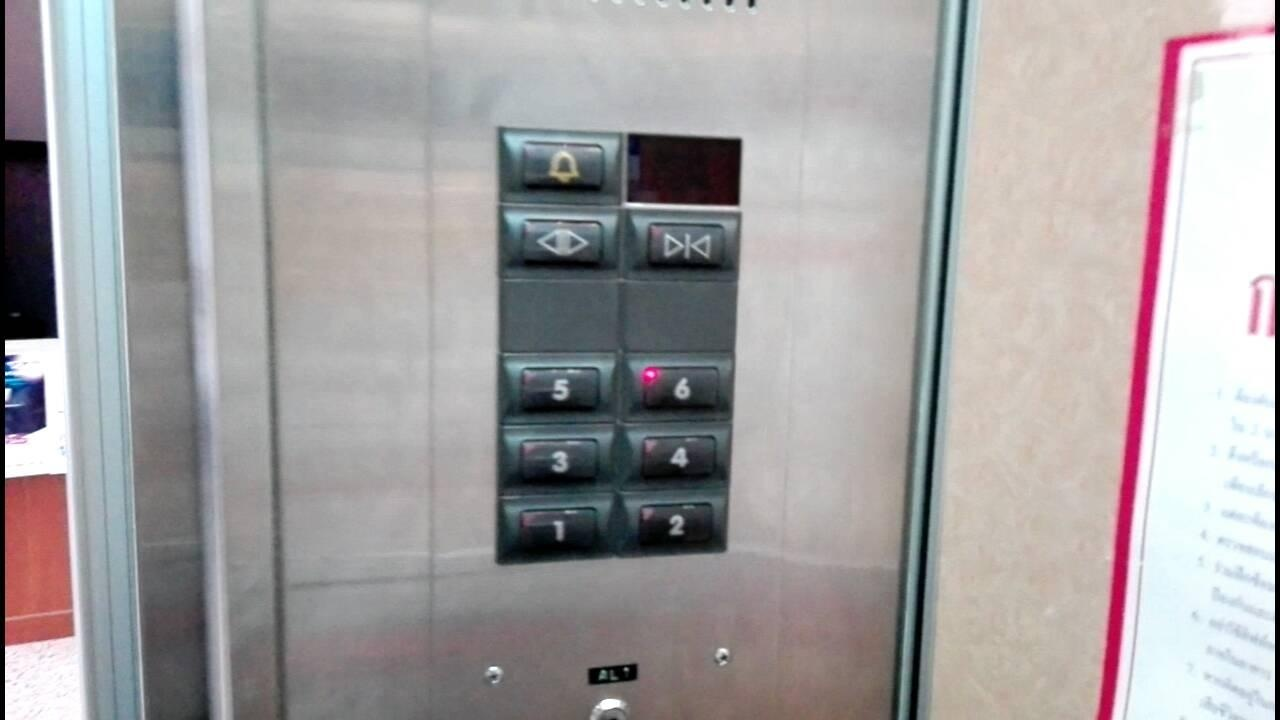1: (517, 504, 601, 555)
2: (633, 501, 717, 552)
3: (518, 436, 602, 487)
4: (635, 432, 719, 483)
5: (517, 365, 601, 416)
6: (638, 363, 722, 414)
alarm: (519, 139, 607, 196)
close: (641, 221, 728, 274)
open: (519, 217, 607, 271)
